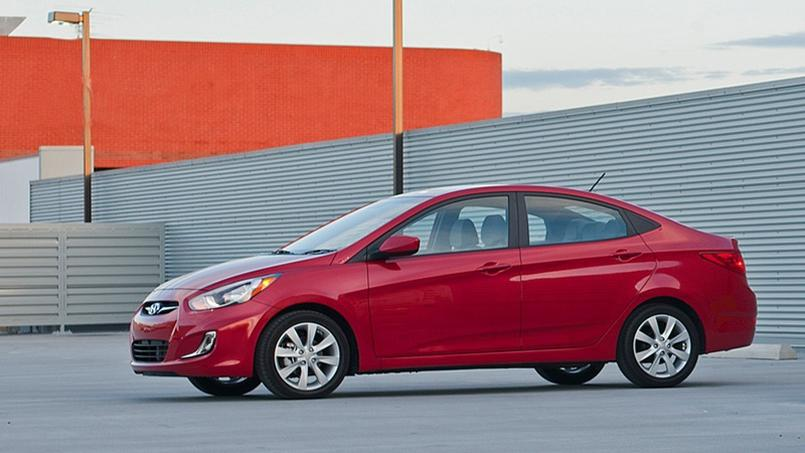Car: (115, 147, 771, 419)
